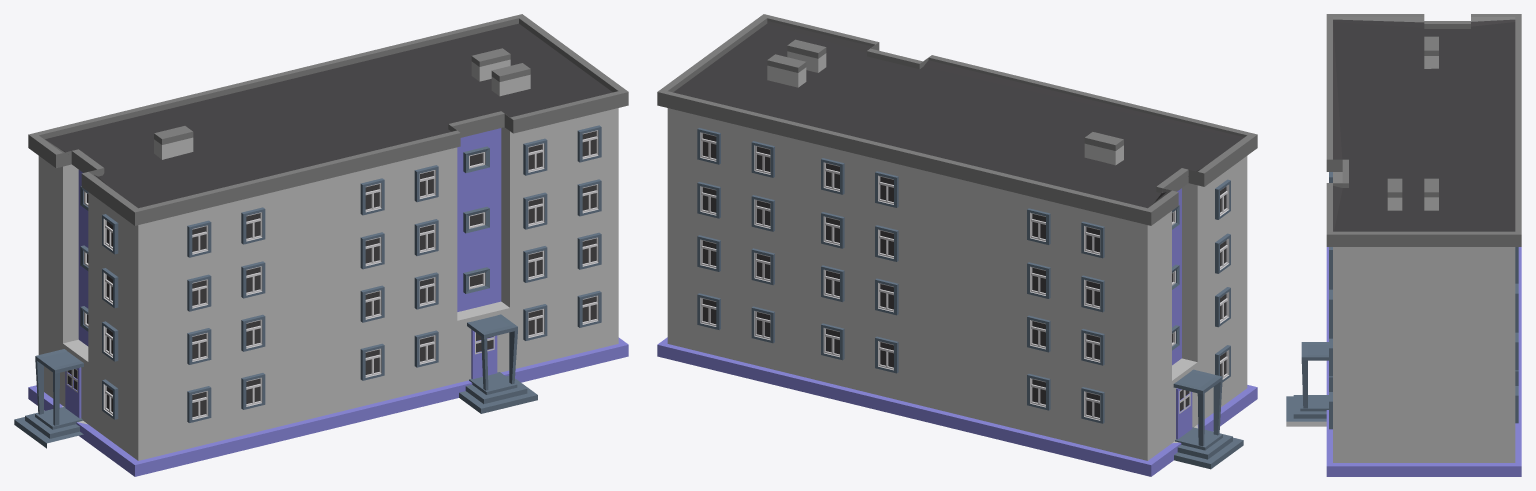
File: flat_4 1.fbx
The picture shows the model from 3 angles, left to right: view 1: azimuth 30°, elevation 25°; view 2: azimuth 150°, elevation 25°; view 3: azimuth 270°, elevation 25°; orthographic projection. The views are drawn at different scales.
Visible parts, largest first — view 1: Flat1.166; view 2: Flat1.166; view 3: Flat1.166.
Boxes of the visible parts, <box> form: Flat1.166: <box>14,14,628,476</box>; Flat1.166: <box>657,14,1257,476</box>; Flat1.166: <box>1286,14,1521,476</box>.
Size of the model in its own units: 16.5 by 8.29 by 6.92.
